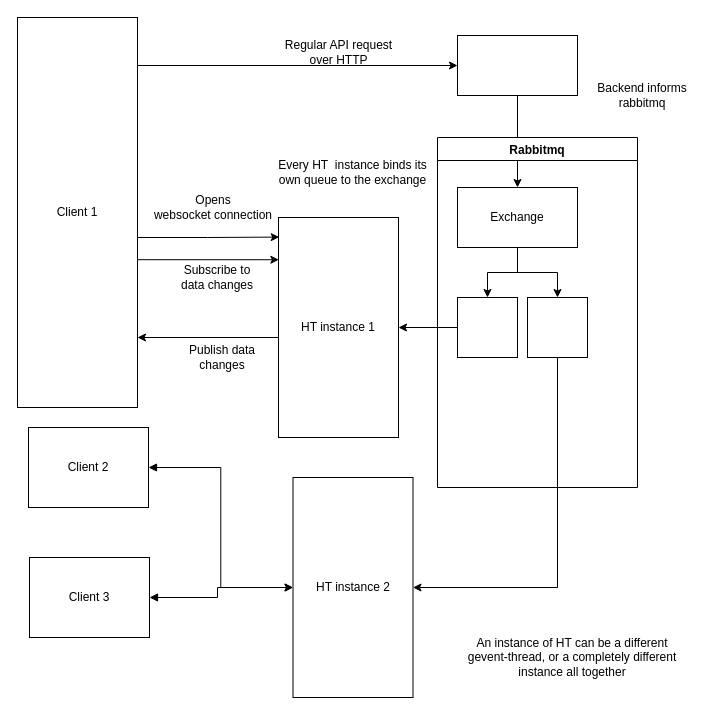
Image size: 715x715. Some labels were removed from this diagram. The centre of each missing label's shape, as x and y in pixels:
"Backend (Django-binder)" belongs at point (517, 65).
"Queue1" belongs at point (487, 327).
"Queue2" belongs at point (557, 327).
